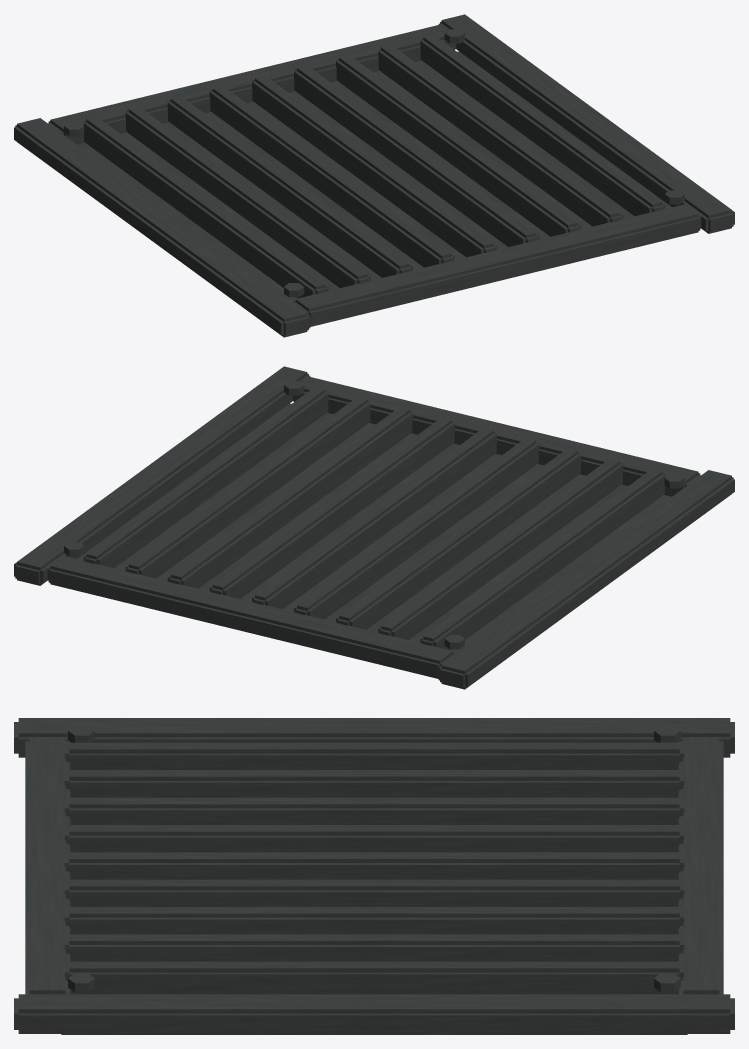
The model's file is DrainGrate.fbx.
3 renders of one model, top to bottom at view 1: azimuth 30°, elevation 25°; view 2: azimuth 150°, elevation 25°; view 3: azimuth 270°, elevation 25°, orthographic. The views are drawn at different scales.
Parts seen in each view (by area): view 1: DrainGrate; view 2: DrainGrate; view 3: DrainGrate.
Part boxes in pixels (<box>): DrainGrate: <box>14,14,734,337</box>; DrainGrate: <box>14,366,734,689</box>; DrainGrate: <box>14,718,734,1034</box>.
Bounding box in the file's own units: 62 × 4.7 × 64.
